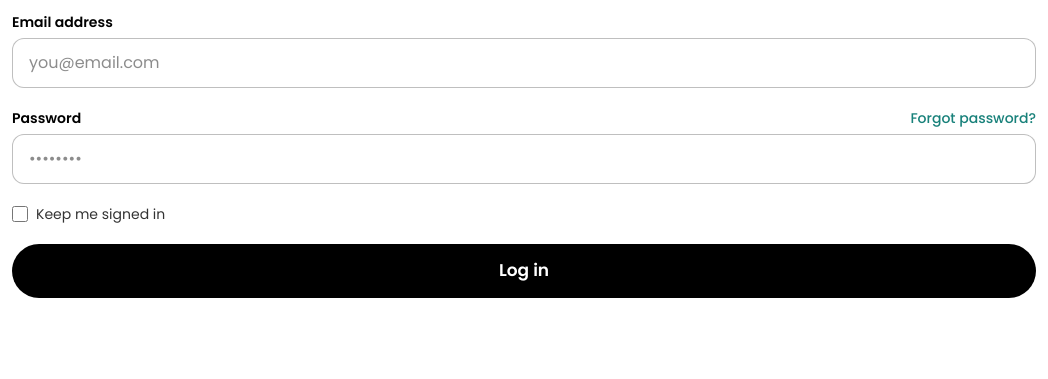
LoginForm › shows the notice when using 'Forgot password?'
The image size is (1048, 379).
Click the button "Forgot password?".
click(973, 118)  # box [910, 108, 1036, 128]
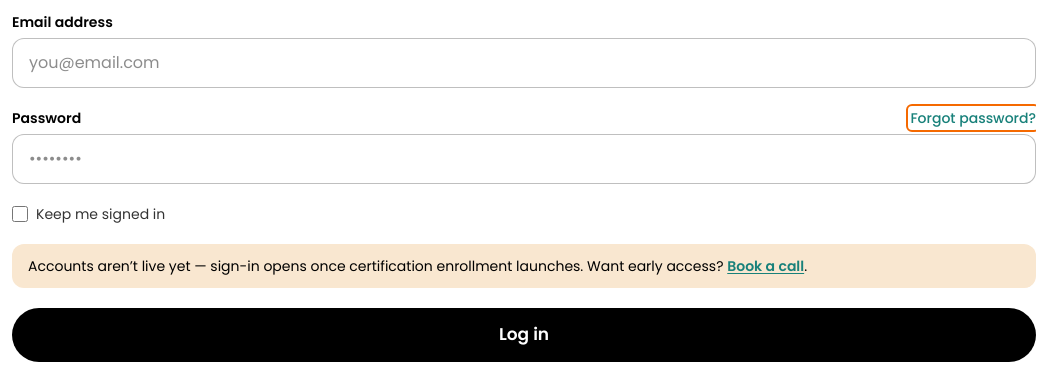
Expected: the text "accounts aren.t live yet" is shown, [28, 256, 724, 276]
